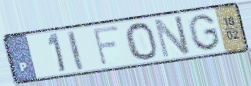1: (46, 31, 69, 74)
F: (91, 23, 122, 68)
G: (186, 12, 223, 52)
I: (65, 28, 86, 72)
N: (152, 14, 193, 61)
O: (124, 21, 160, 61)
